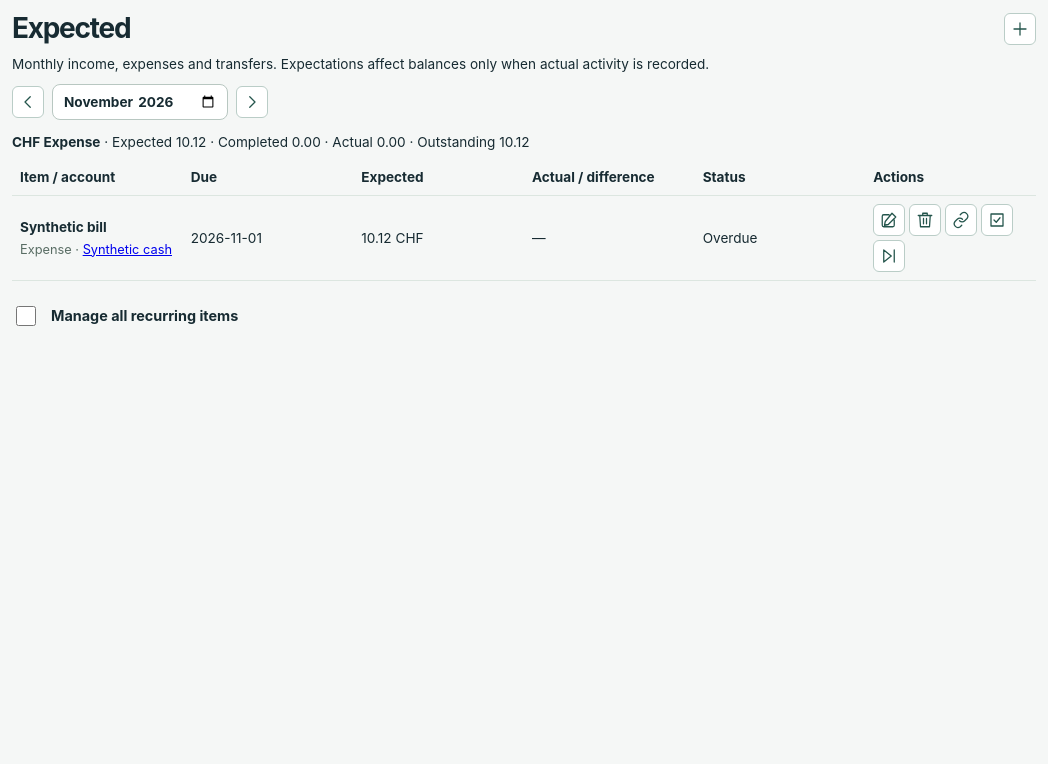
Test: records future months using the expected date and shows confirmed future activity as scheduled
This screenshot has width=1048, height=764.
Expected: the text "Overdue" is shown, left=695, top=196, right=865, bottom=281
What coordinates should you click on to do the following:
click the button named "Record Synthetic bill"
I would click on:
 (997, 220)
Its box is left=981, top=204, right=1013, bottom=236.
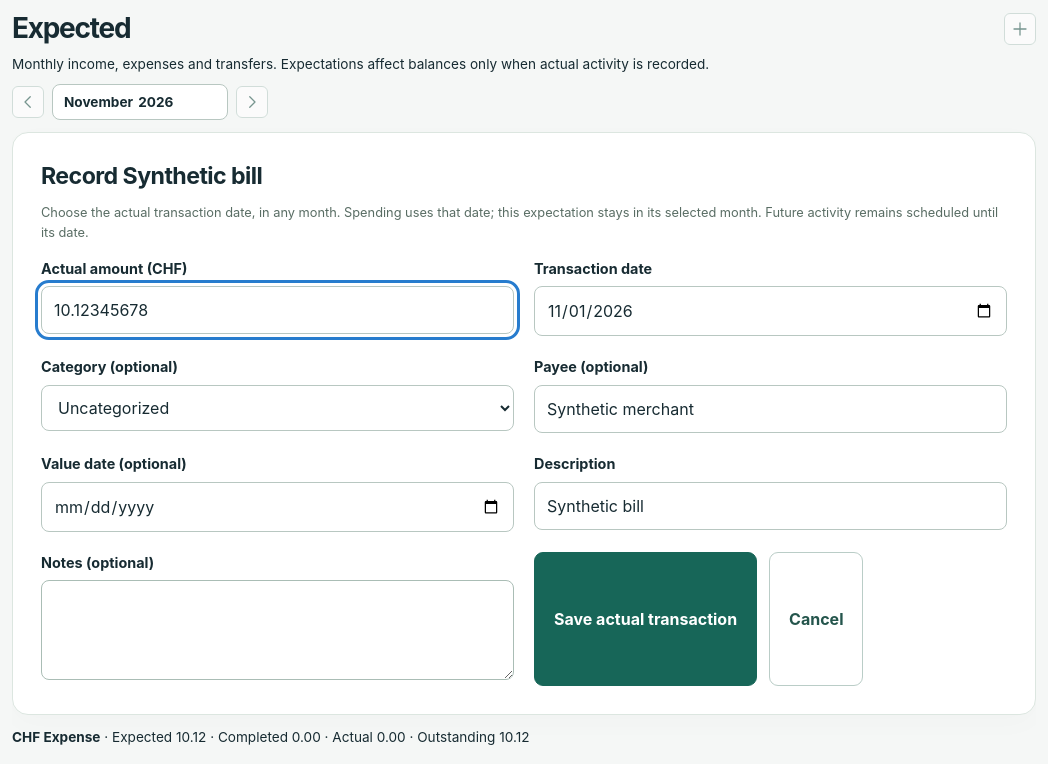
Now the date field labelled "Transaction date" holds "2026-11-01", box left=534, top=286, right=1007, bottom=336
What coordinates should you click on to do the following:
click the button "Save actual transaction"
I would click on:
 (646, 619)
Its box is left=534, top=552, right=757, bottom=686.
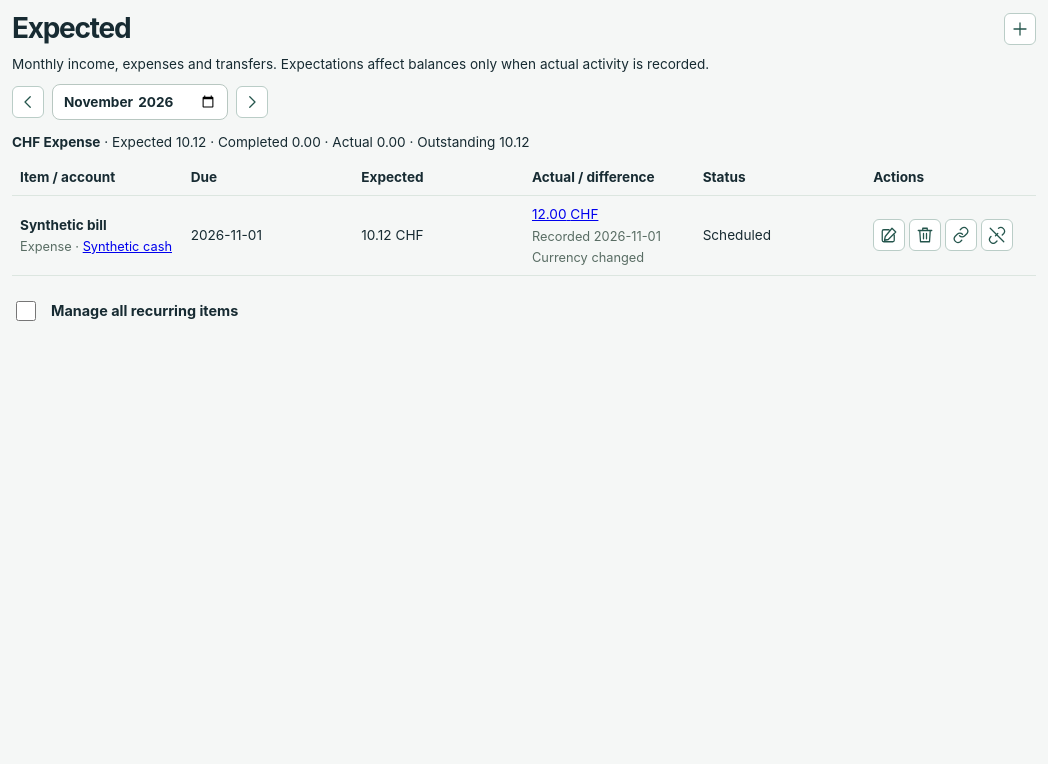
Now the text "Scheduled" is shown, box left=695, top=196, right=865, bottom=275
Now the heading "Record Synthetic bill" is gone
